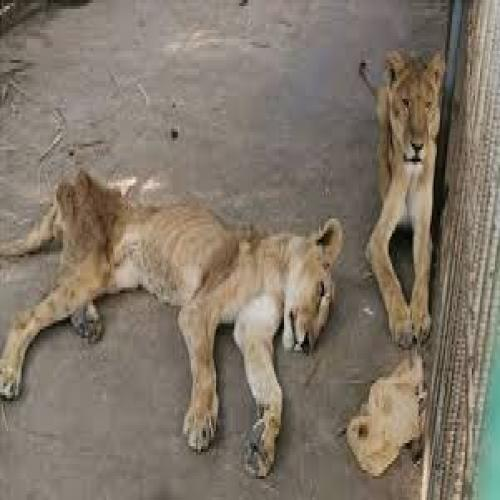lion-endangered: (8, 173, 343, 471), (372, 42, 441, 341)
